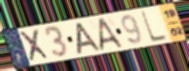3: (45, 25, 68, 60)
9: (120, 13, 144, 46)
A: (99, 16, 125, 53), (76, 21, 102, 55)
L: (139, 10, 169, 45)
X: (18, 28, 53, 64)
